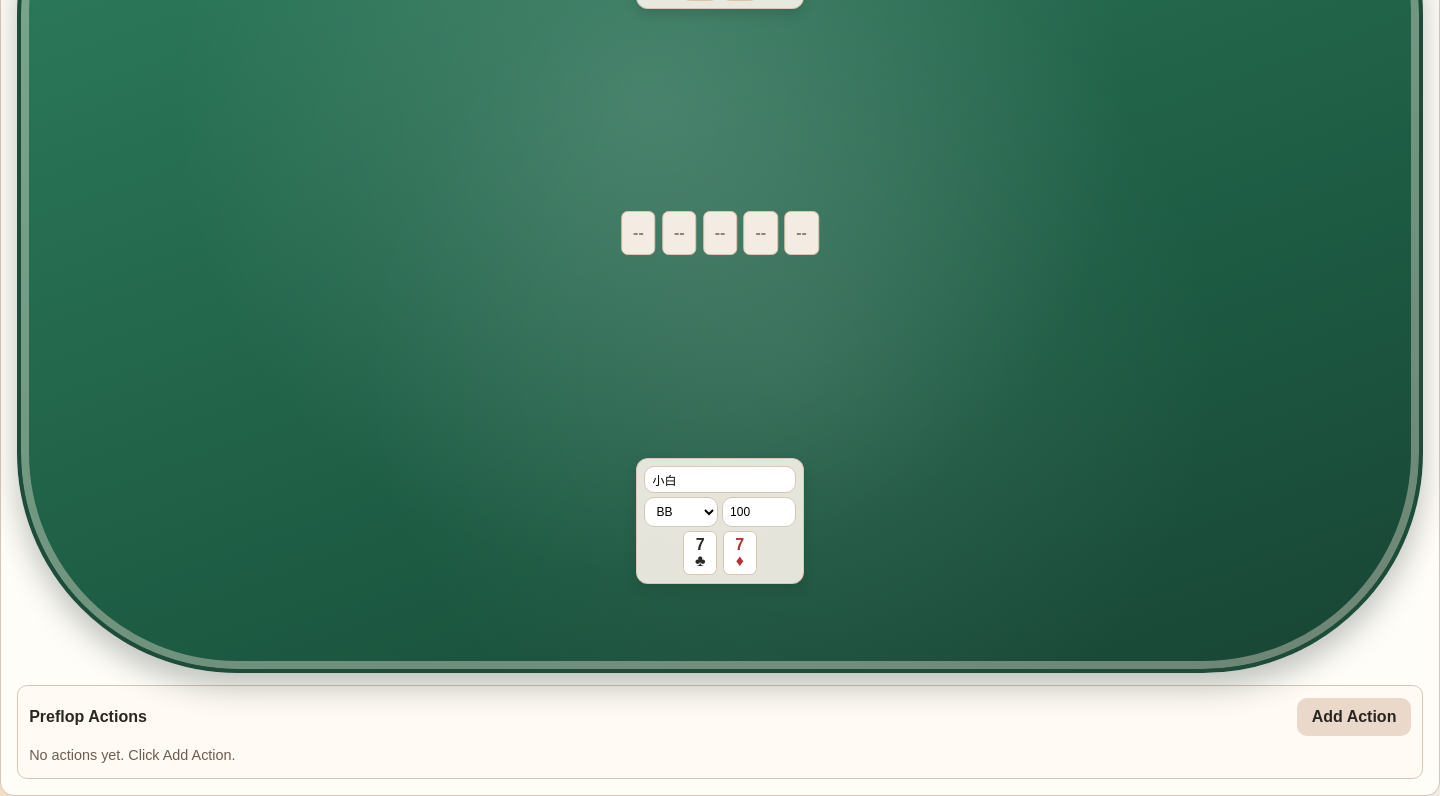
adds preflop actions in heads-up order BB -> BTN -> BB
(page scrolled)
Click the button "Add Action": (1354, 717) [1297,698,1411,736]
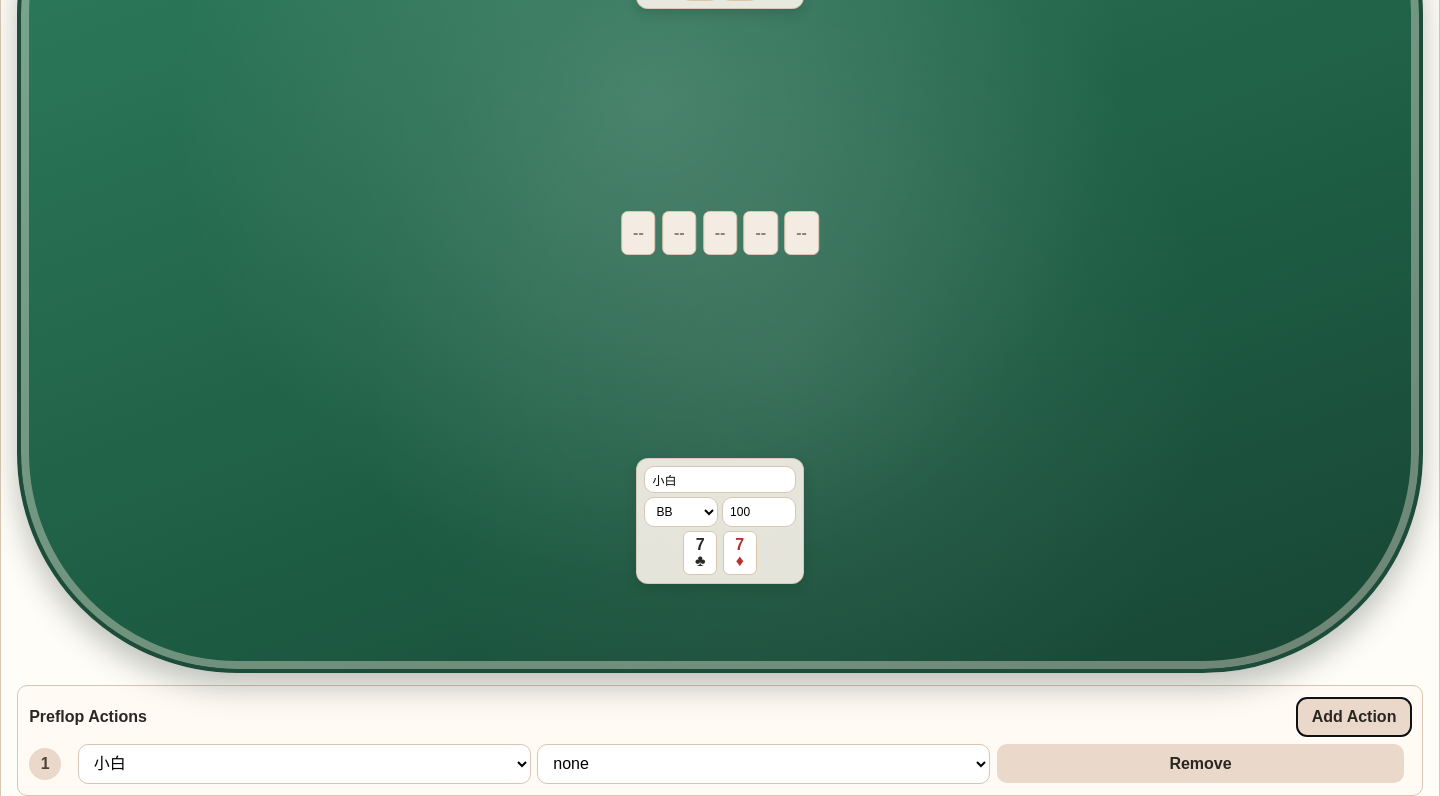
Now the dropdown named "Actor preflop 1" shows "小白", box [78,744,531,784]
Select "raise" in the dropdown named "Action preflop 1": (764, 764) [537,744,990,784]
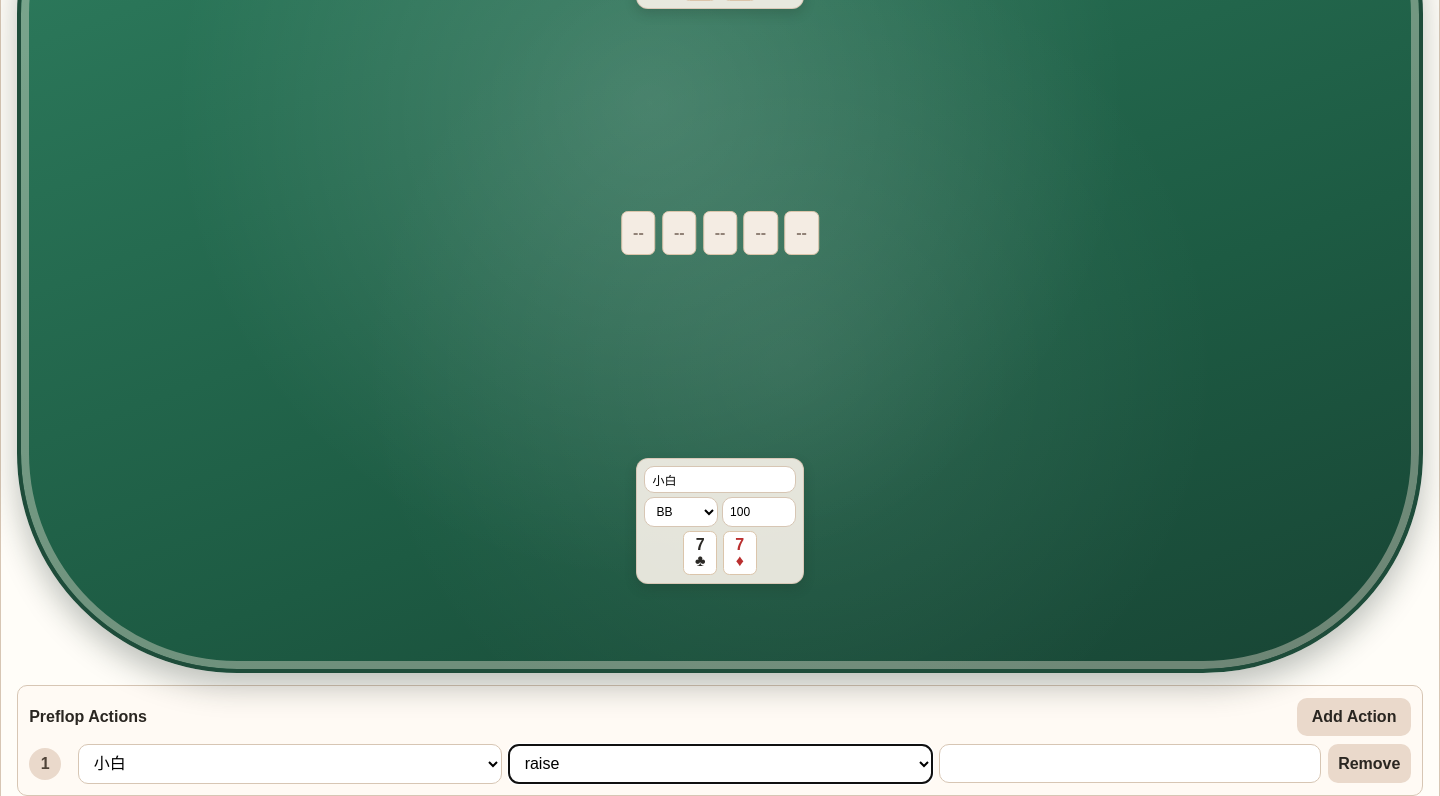
Click the button "Add Action": (1354, 717) [1297,698,1411,736]
(page scrolled)
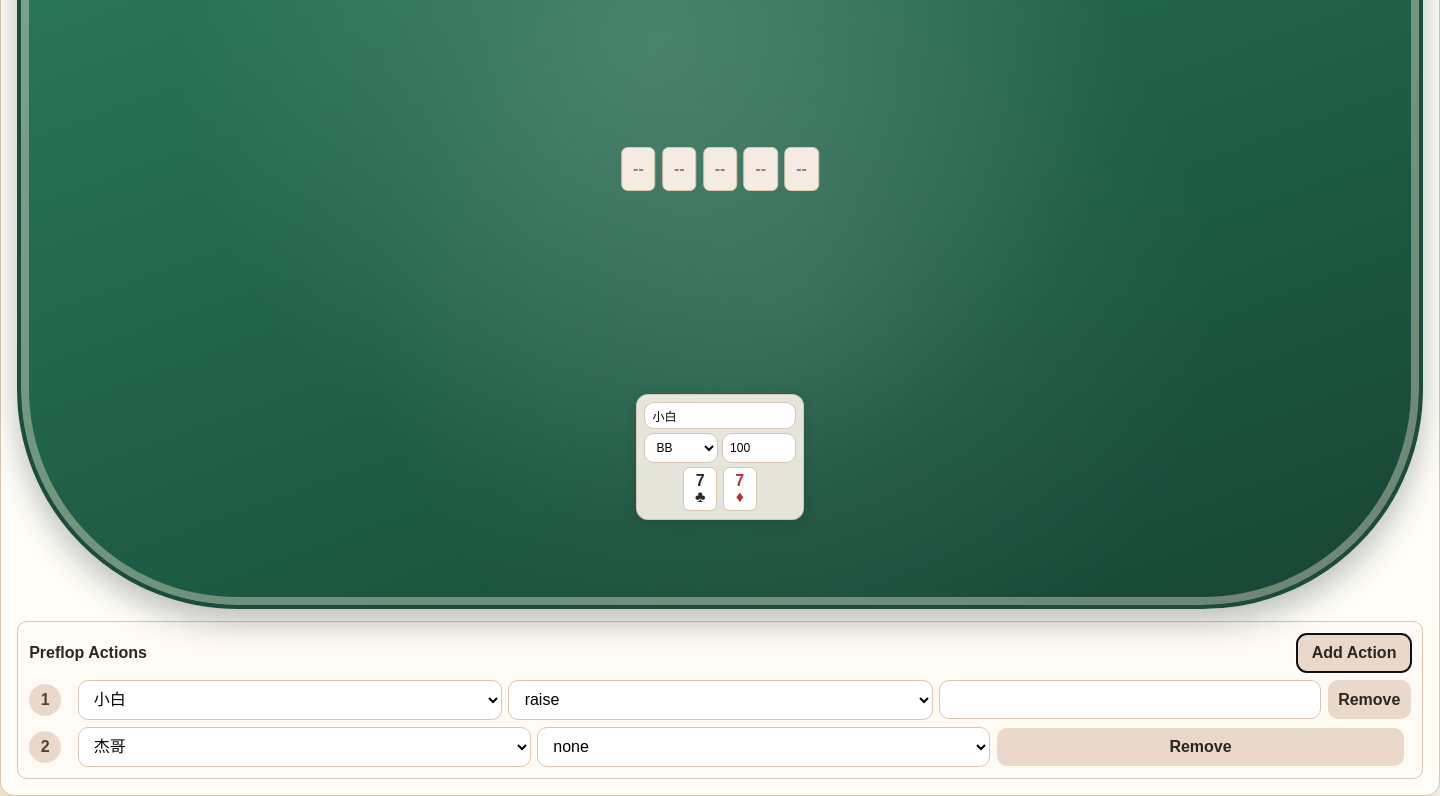
Now the dropdown named "Actor preflop 2" shows "杰哥", box [78,727,531,767]
Select "raise" in the dropdown named "Action preflop 2": (764, 747) [537,727,990,767]
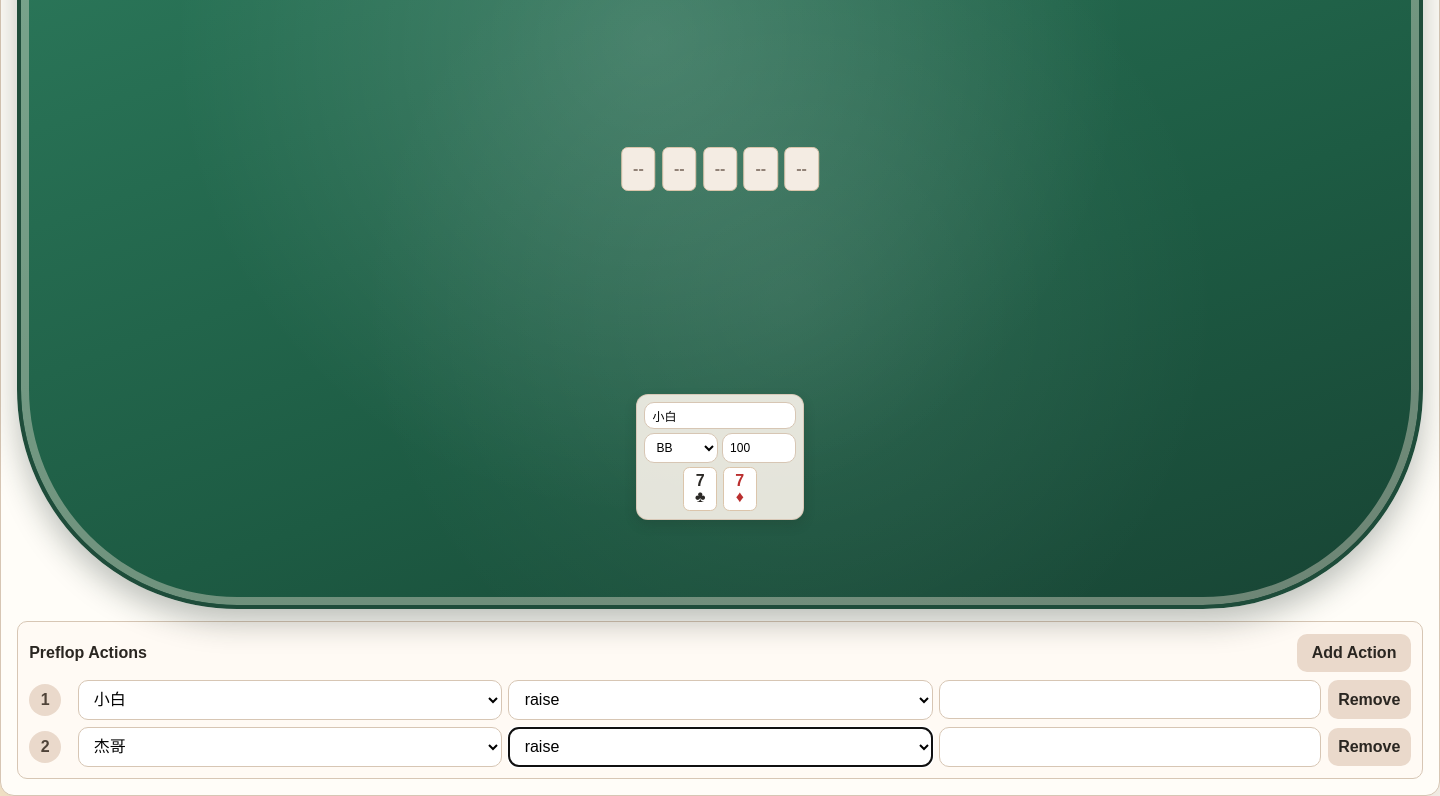
Click the button "Add Action": (1354, 653) [1297,634,1411,672]
(page scrolled)
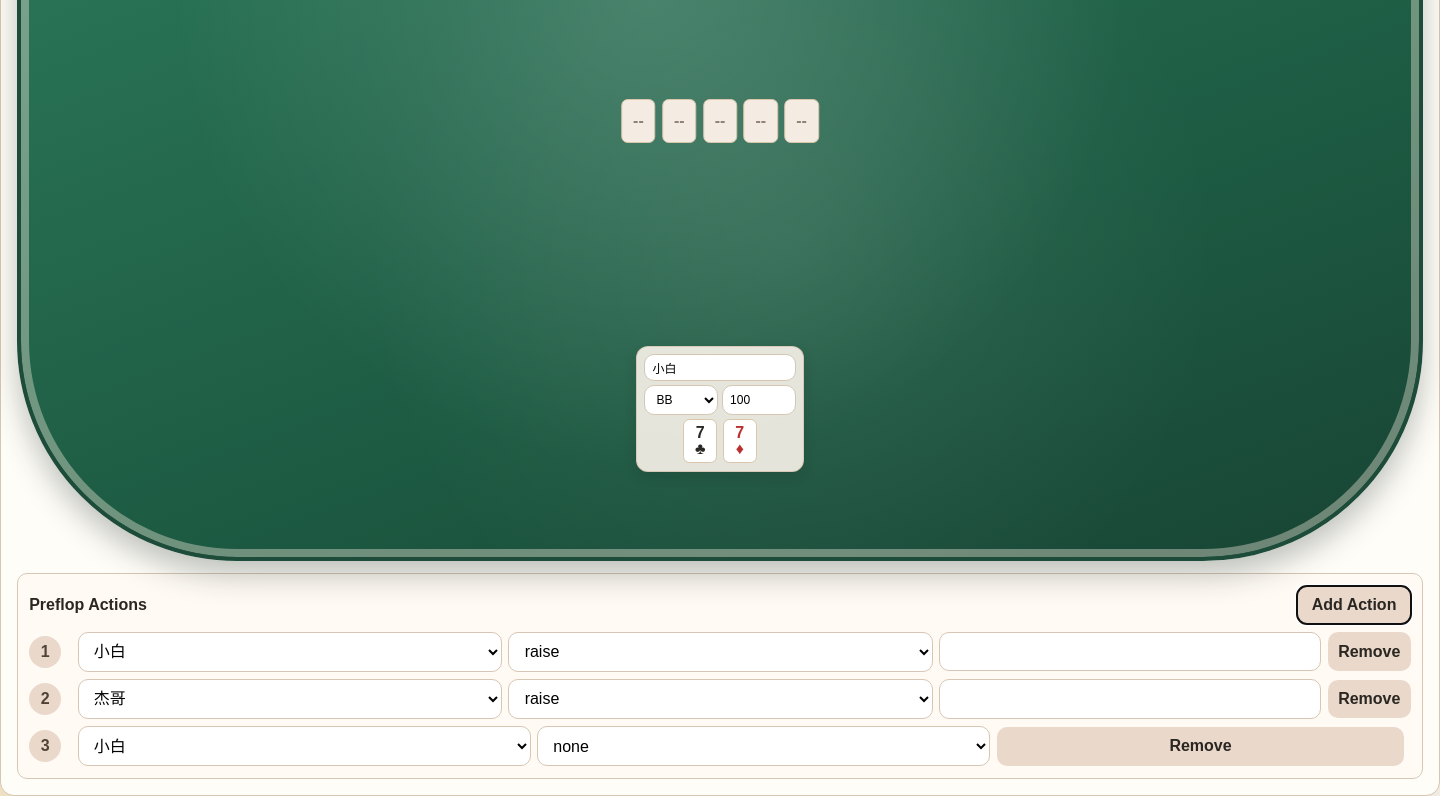
Now the dropdown named "Actor preflop 3" shows "小白", box [78,726,531,766]
